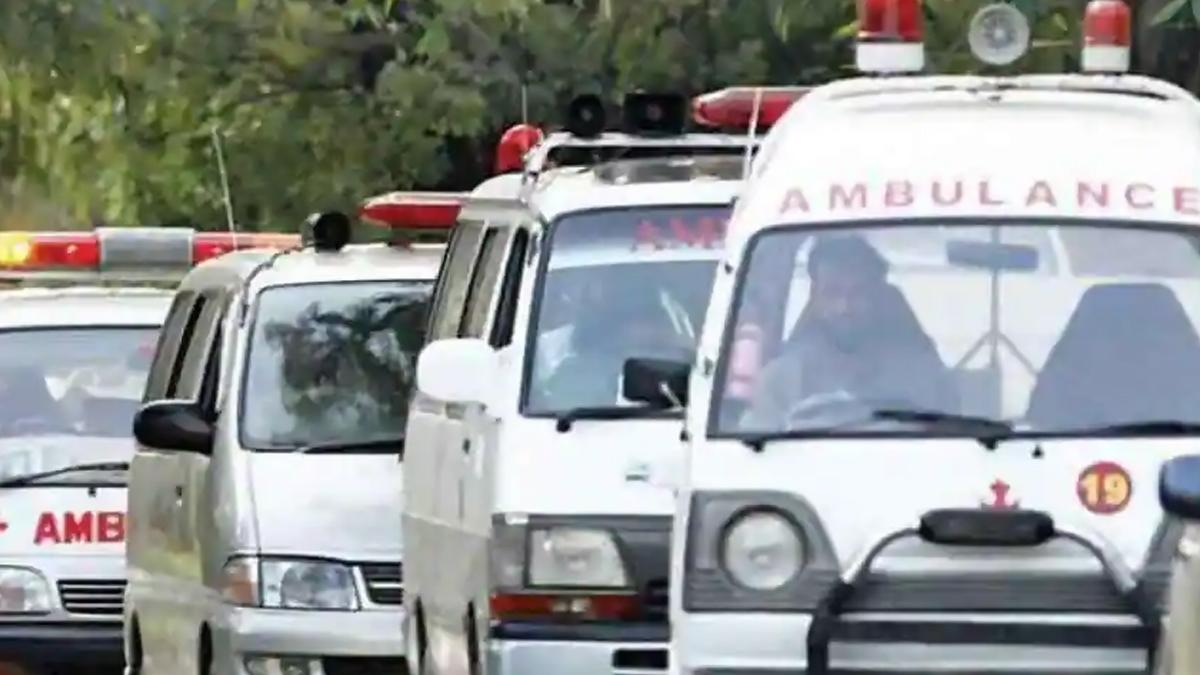Emergency-Vehicles: (747, 101, 1200, 675), (465, 106, 811, 675)
